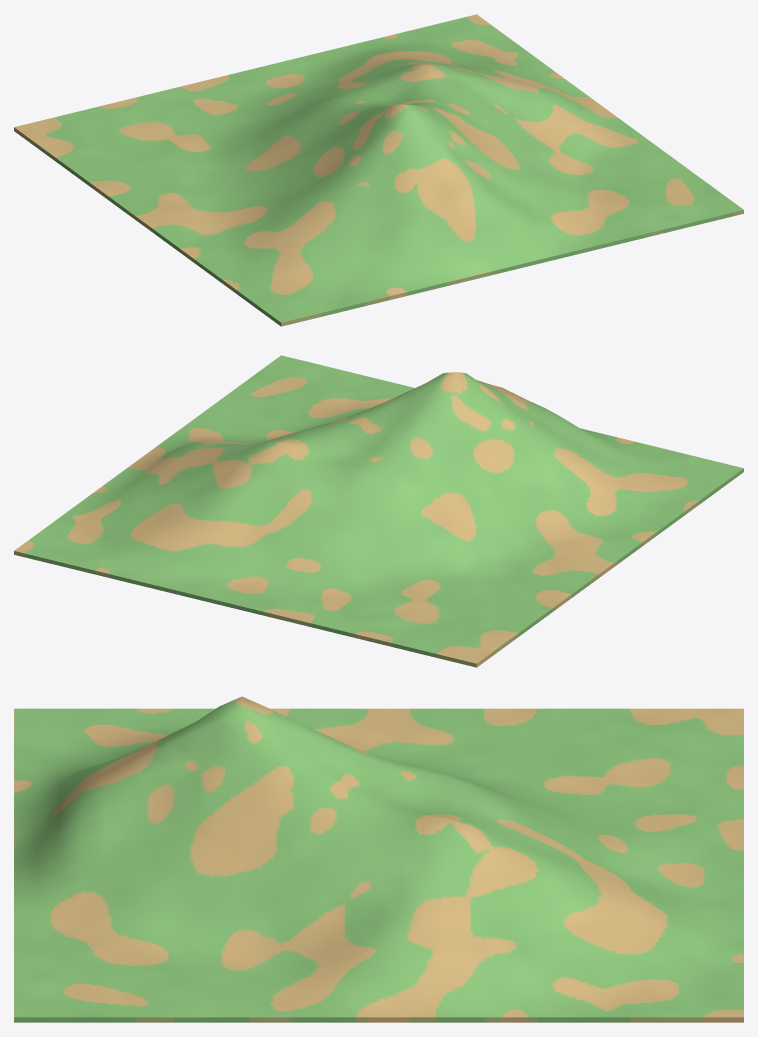
The model's file is Grass_Hills_11.obj.
The picture shows the model from 3 angles, top to bottom: view 1: azimuth 30°, elevation 25°; view 2: azimuth 150°, elevation 25°; view 3: azimuth 270°, elevation 25°; orthographic projection. The views are drawn at different scales.
Bounding box in the file's own units: 10 × 2.31 × 10.
1 material, 1 textured.
